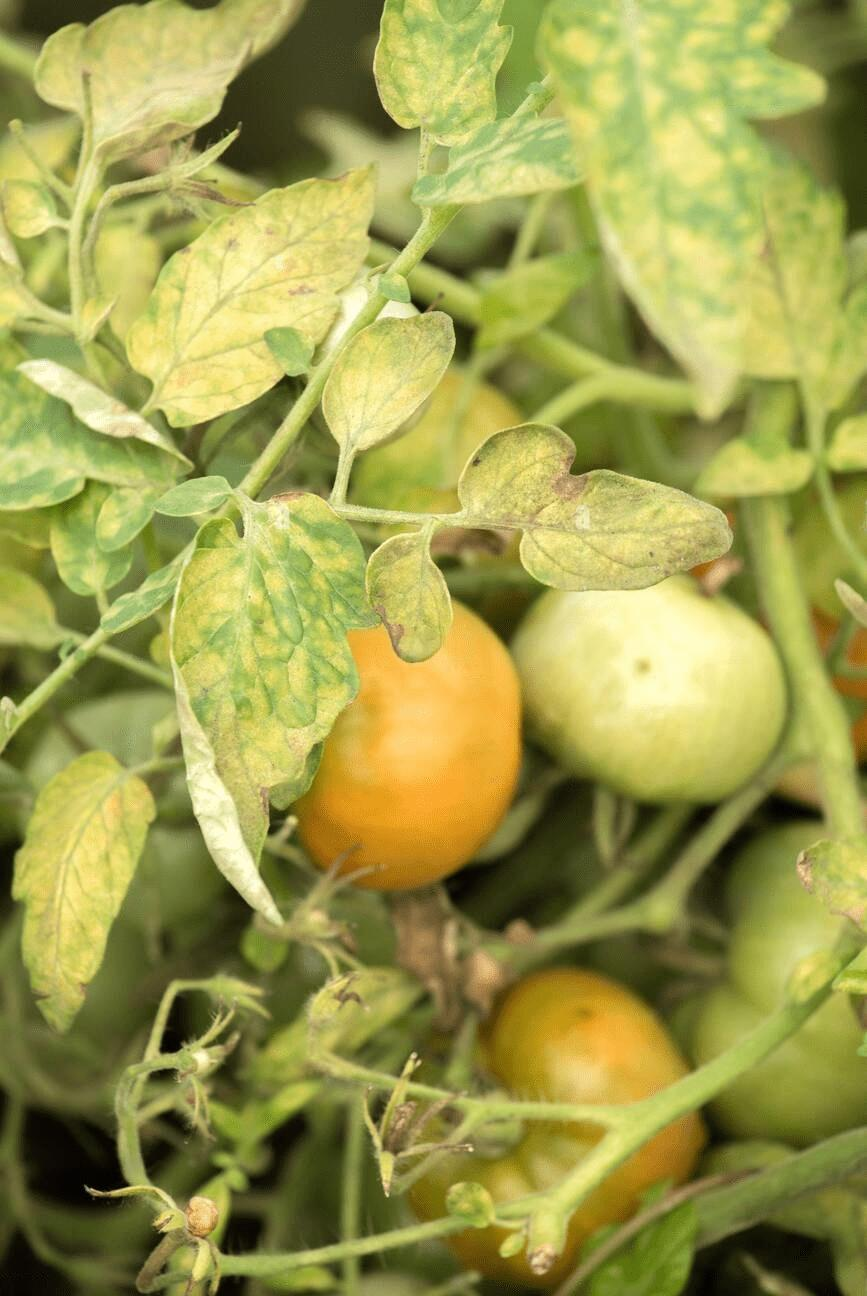Yellow Leaf Curl Virus: (535, 0, 867, 422), (162, 477, 373, 945), (120, 158, 383, 438), (458, 420, 737, 597), (0, 740, 160, 1042), (20, 0, 307, 157), (363, 0, 520, 152), (317, 305, 462, 458), (358, 525, 457, 672)
